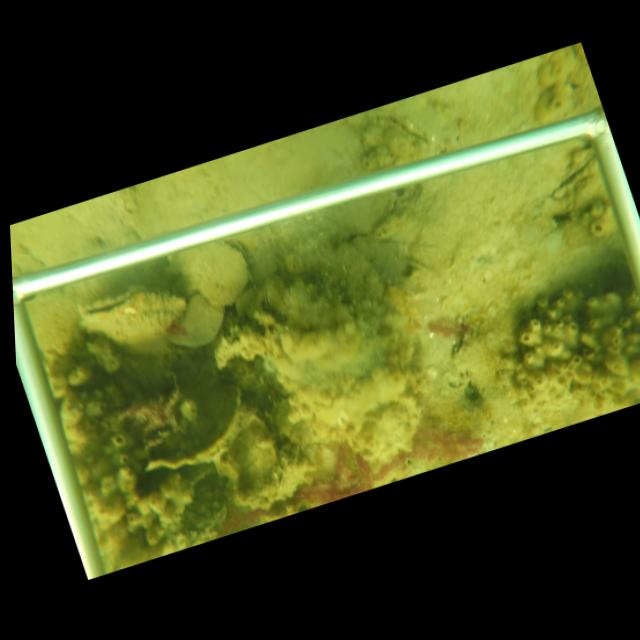Oyster-Closed: (168, 240, 254, 312), (263, 281, 283, 314)
Oyster-Indeterminate: (164, 297, 222, 348)
Oyster-Open: (72, 284, 187, 345)
